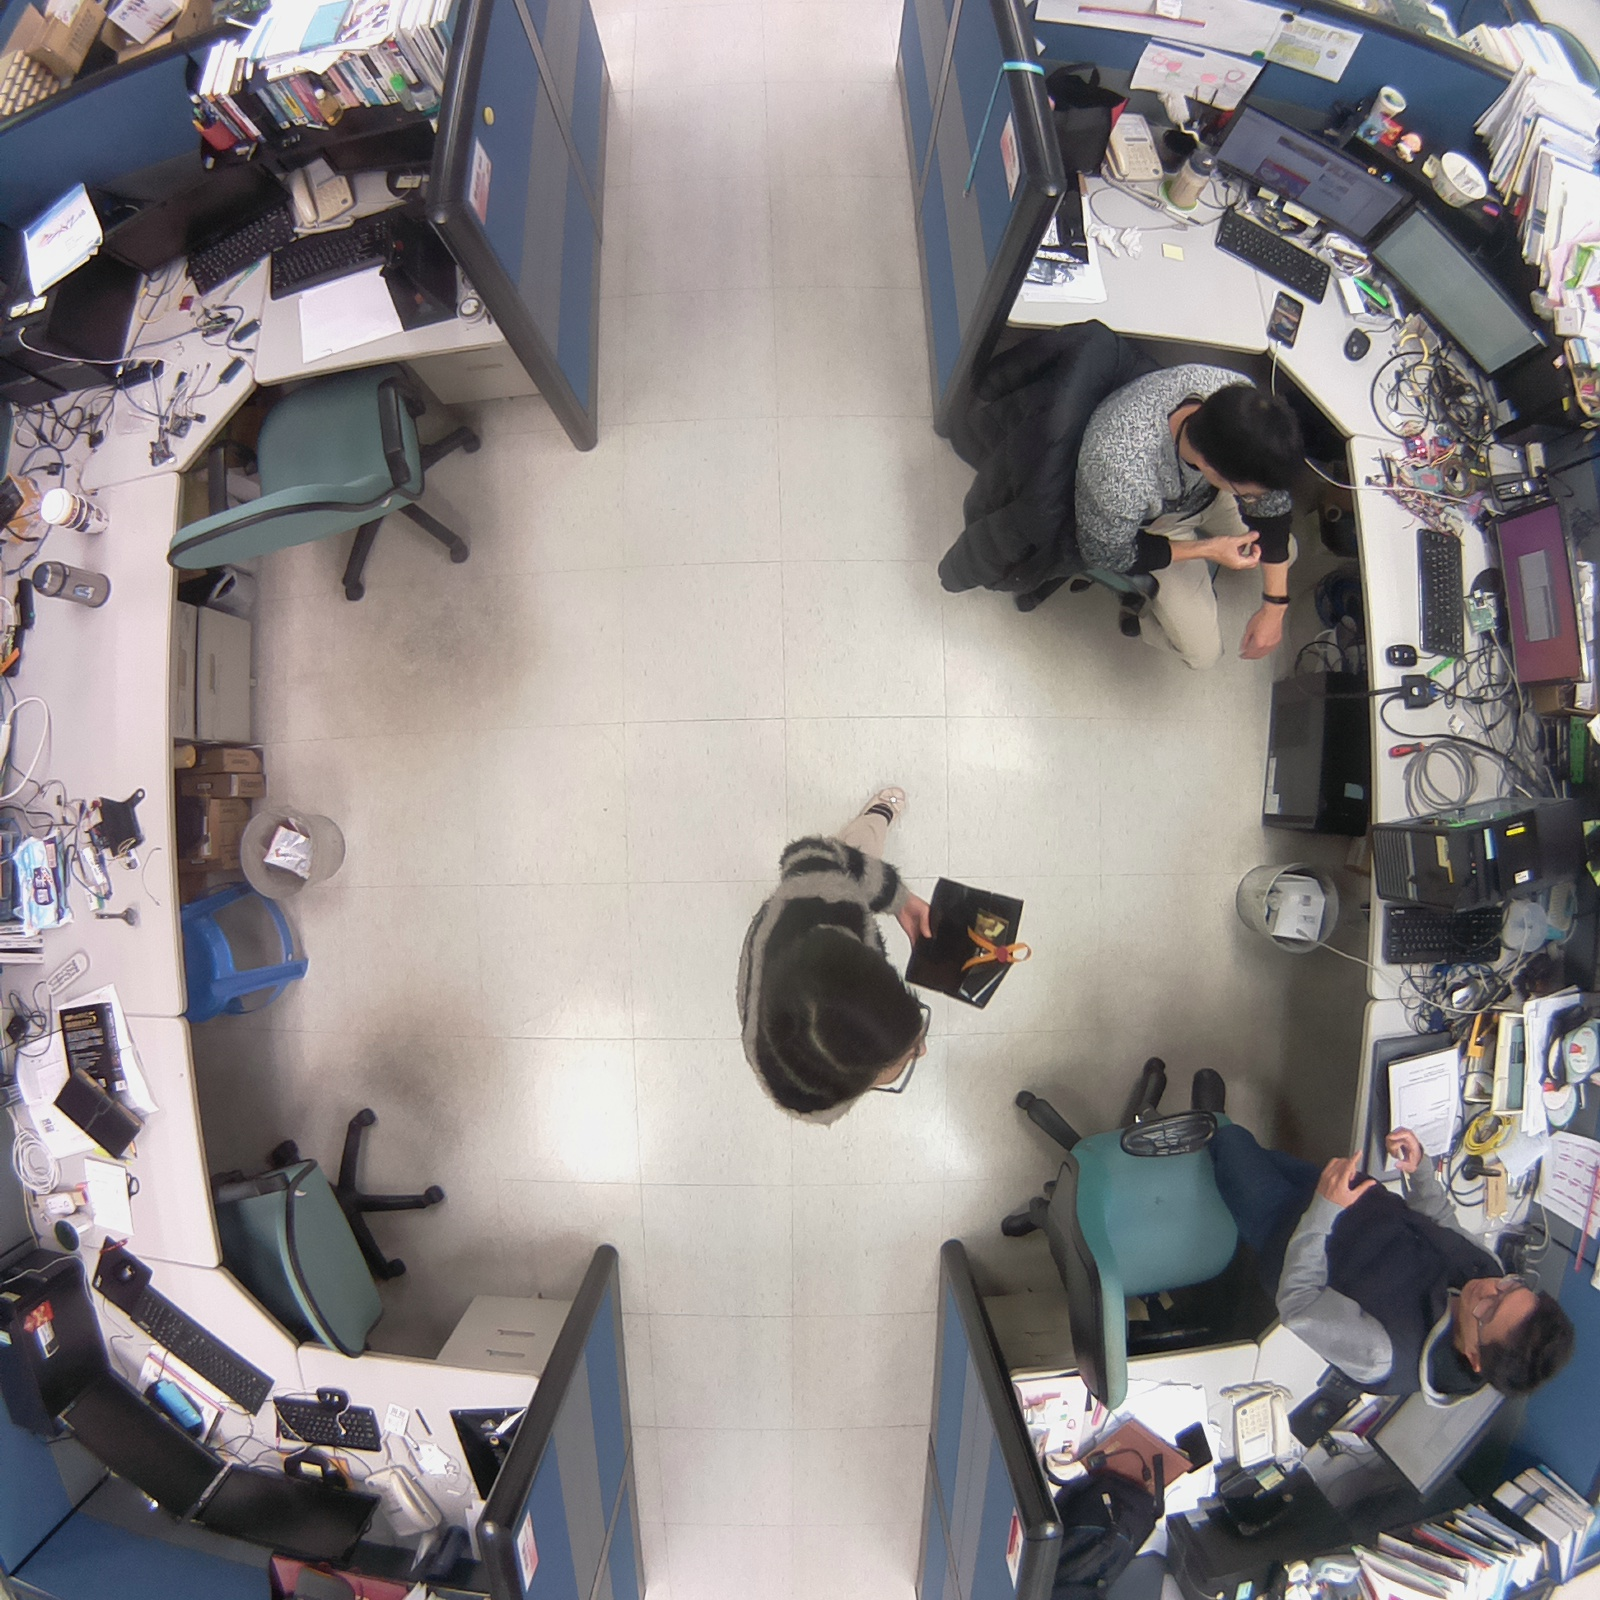chair: (150, 329, 494, 629), (191, 1078, 465, 1381)
head: (763, 906, 934, 1129), (1451, 1263, 1580, 1404), (1178, 374, 1315, 500)
sitting: (919, 309, 1327, 675)
standing: (981, 1037, 1581, 1418), (712, 755, 961, 1170)
